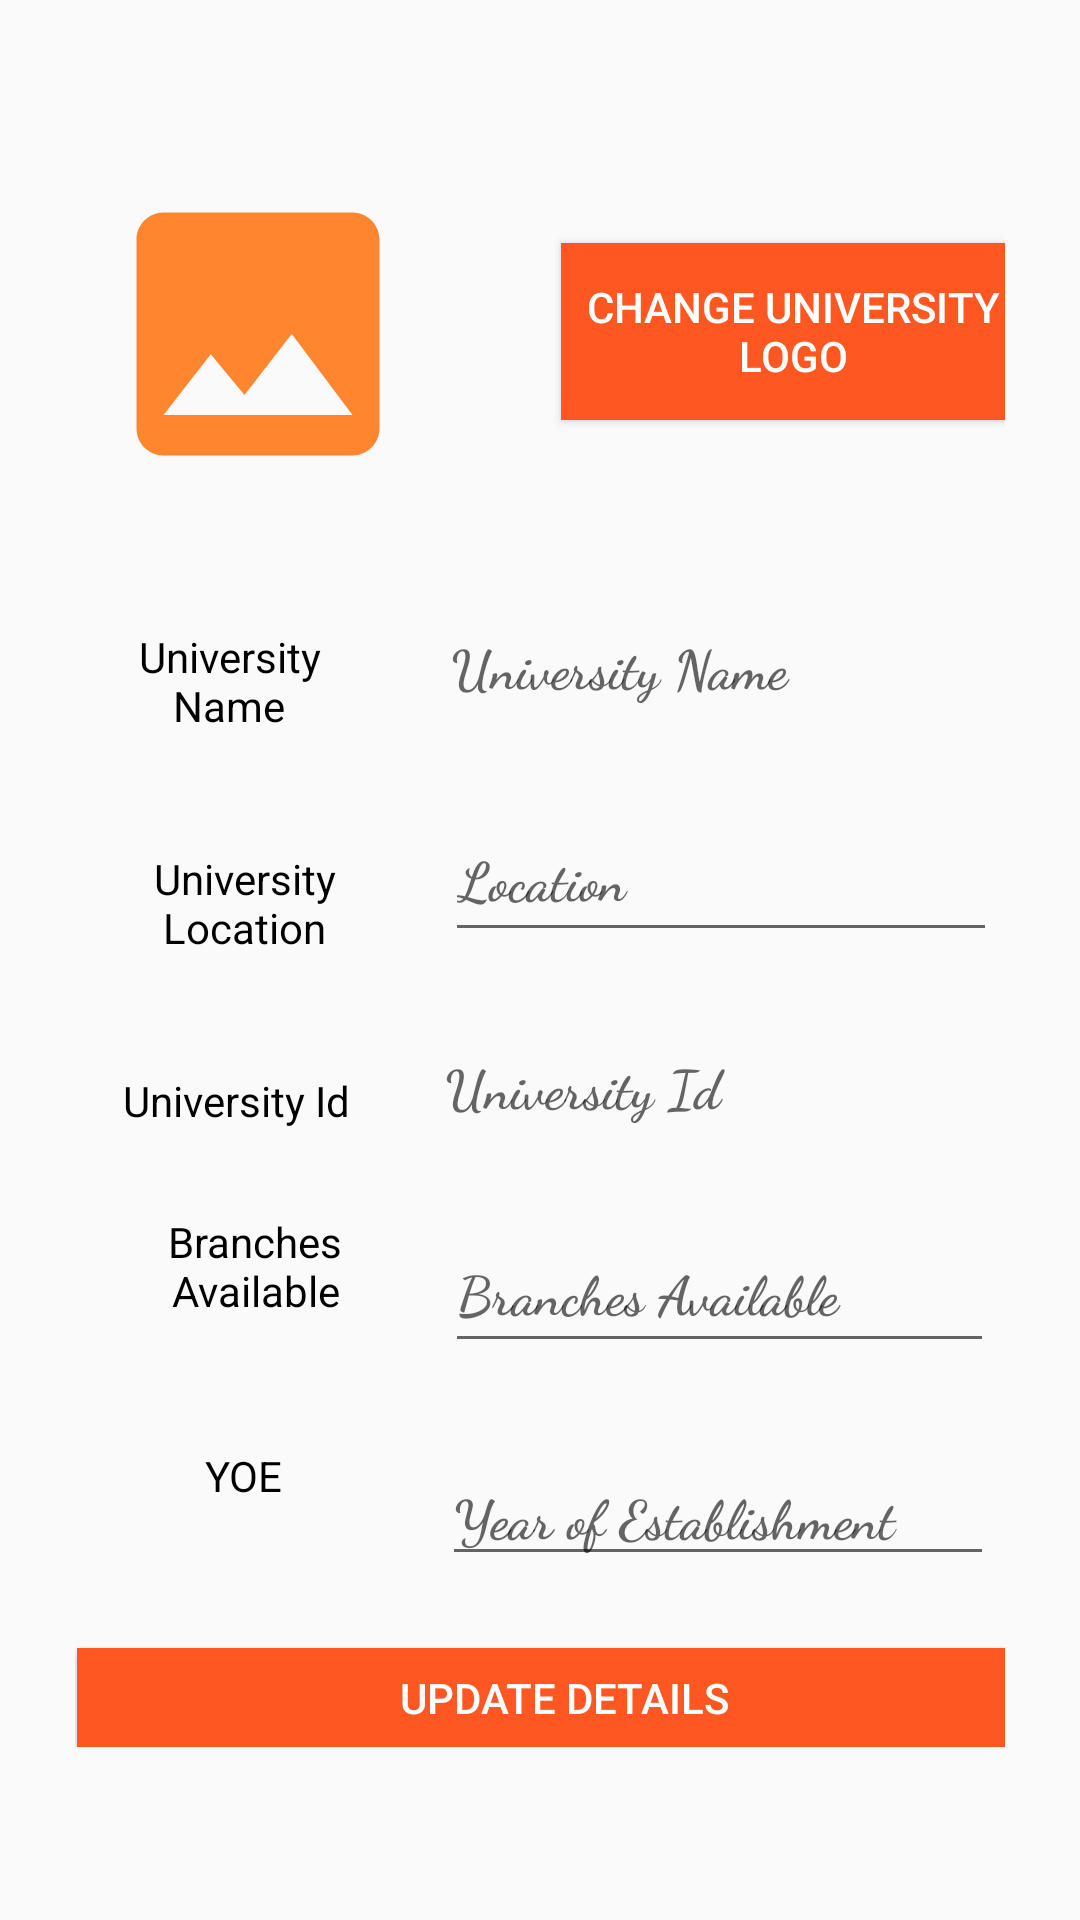

Named icons in this screenshot (1080w x 1920h) and their bounding boxes, (x1, y1, x2, y2):
photo: (136, 212, 380, 456)
